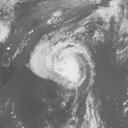cyclone: (36, 37, 94, 89)
